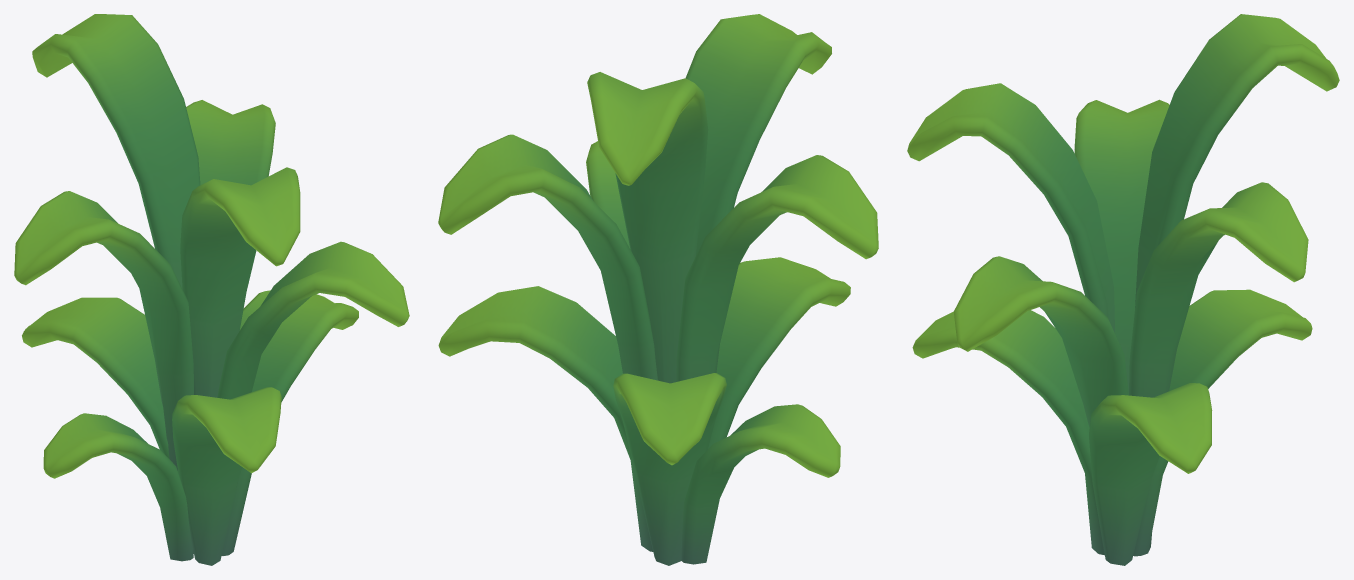
The model's file is candy-spike-purple.glb.
3 views of the same model, side by side, from view 1: azimuth 30°, elevation 25°; view 2: azimuth 150°, elevation 25°; view 3: azimuth 270°, elevation 25° (orthographic). The views are drawn at different scales.
Visible parts, largest first — view 1: Plant.047; view 2: Plant.047; view 3: Plant.047.
Boxes of the visible parts, x1,y1,x2,y2 form: Plant.047: (14, 14, 409, 565); Plant.047: (438, 14, 878, 565); Plant.047: (907, 14, 1339, 565).
Bounding box in the file's own units: 579 × 739 × 576.
Materials: 1 (1 with a texture image).
